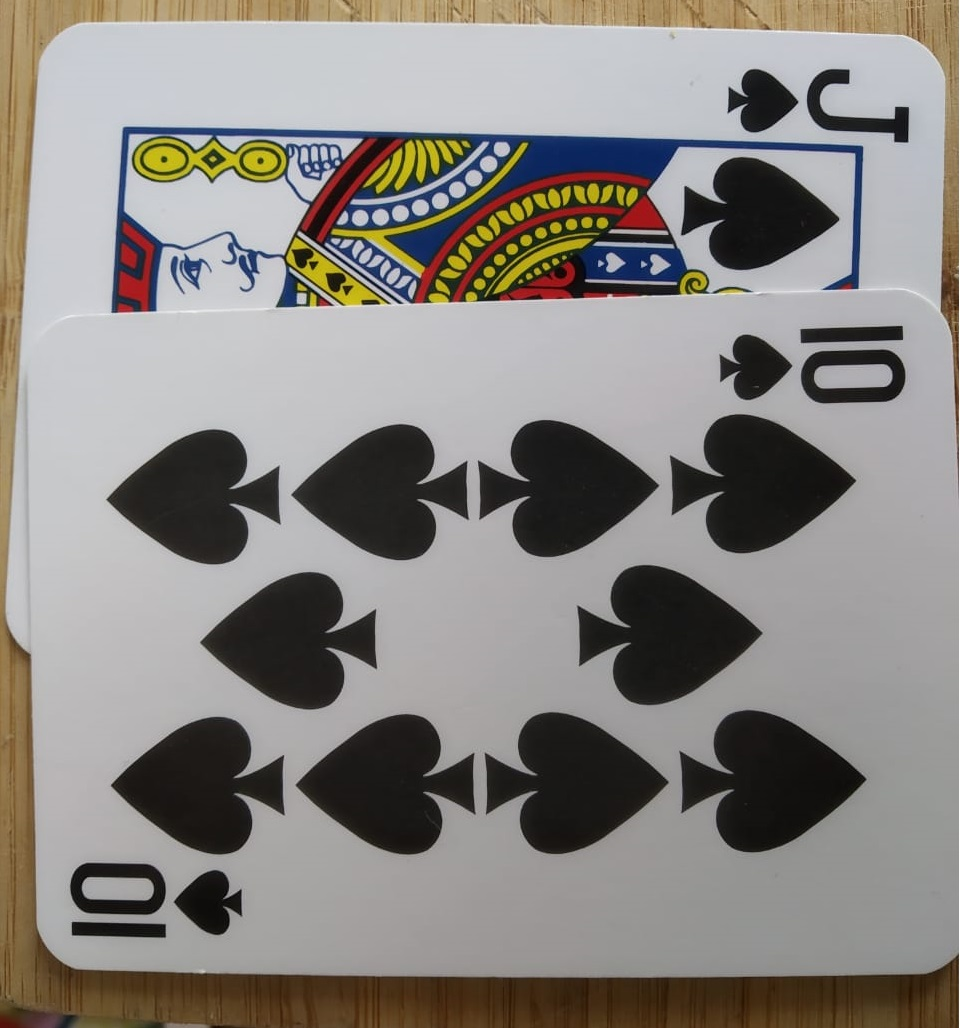jack: (1, 7, 960, 688)
ten: (1, 284, 959, 1005)
